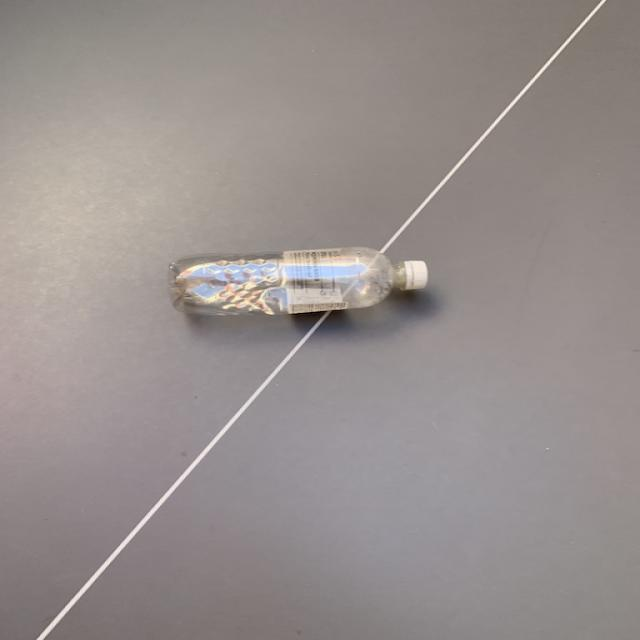Waste: (170, 247, 426, 315)
